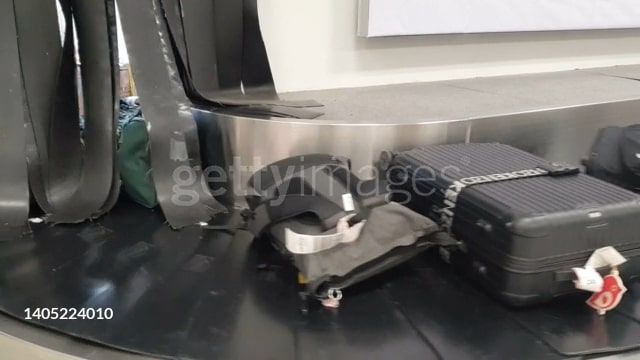baggage: (375, 132, 640, 322), (242, 152, 450, 314)
